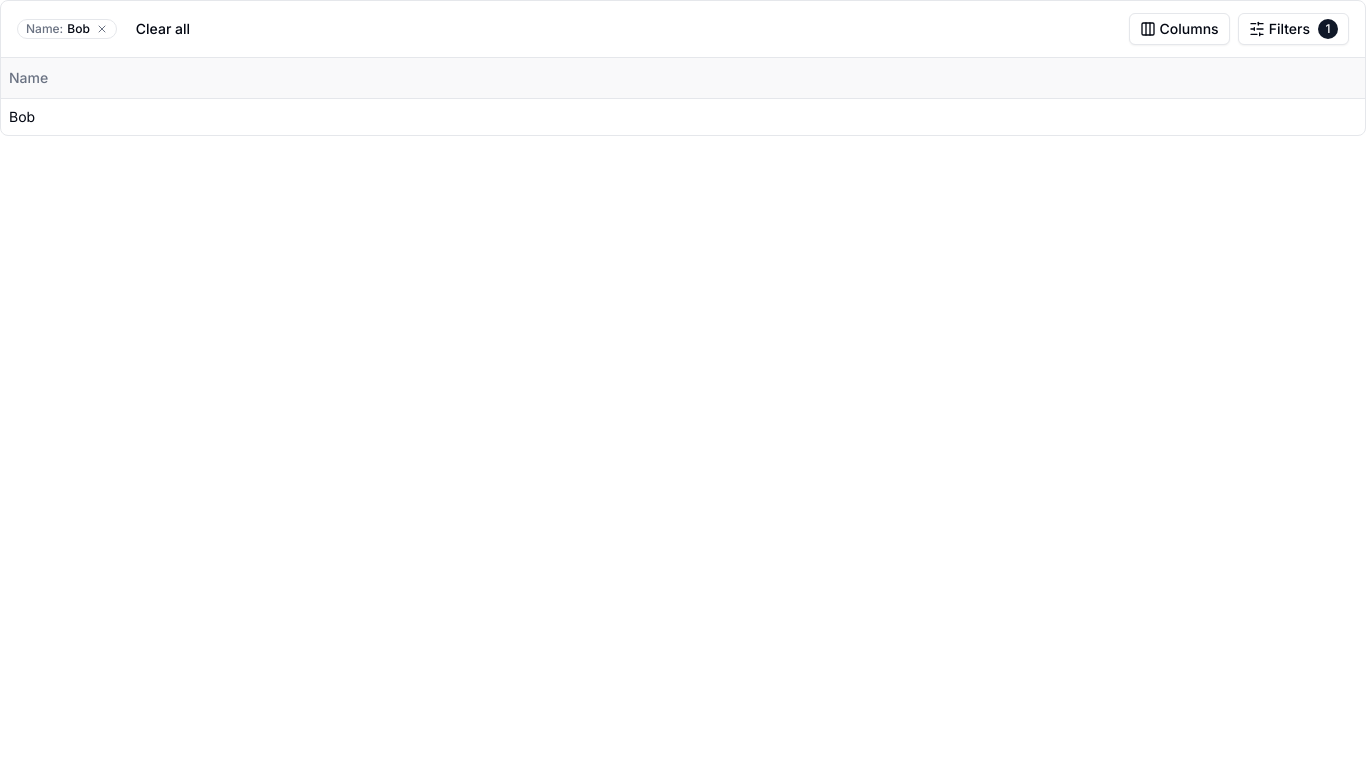
Scenario: DataTableFilterDrawer › reset clears the committed filters and the draft
Click the button with test id "datatable-filters-trigger": (1293, 29) [1238, 13, 1349, 45]
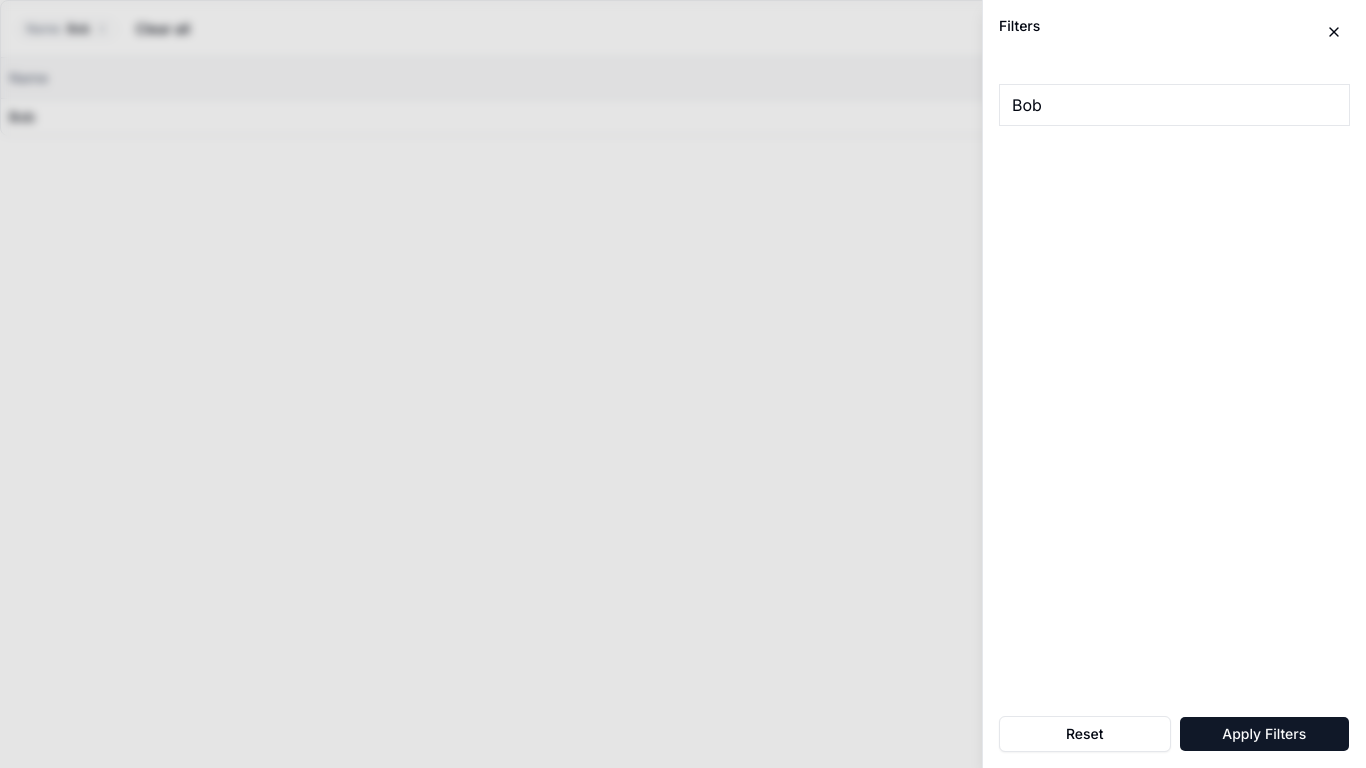
Click the button with test id "filter-drawer-reset": (1085, 734) [999, 716, 1170, 752]
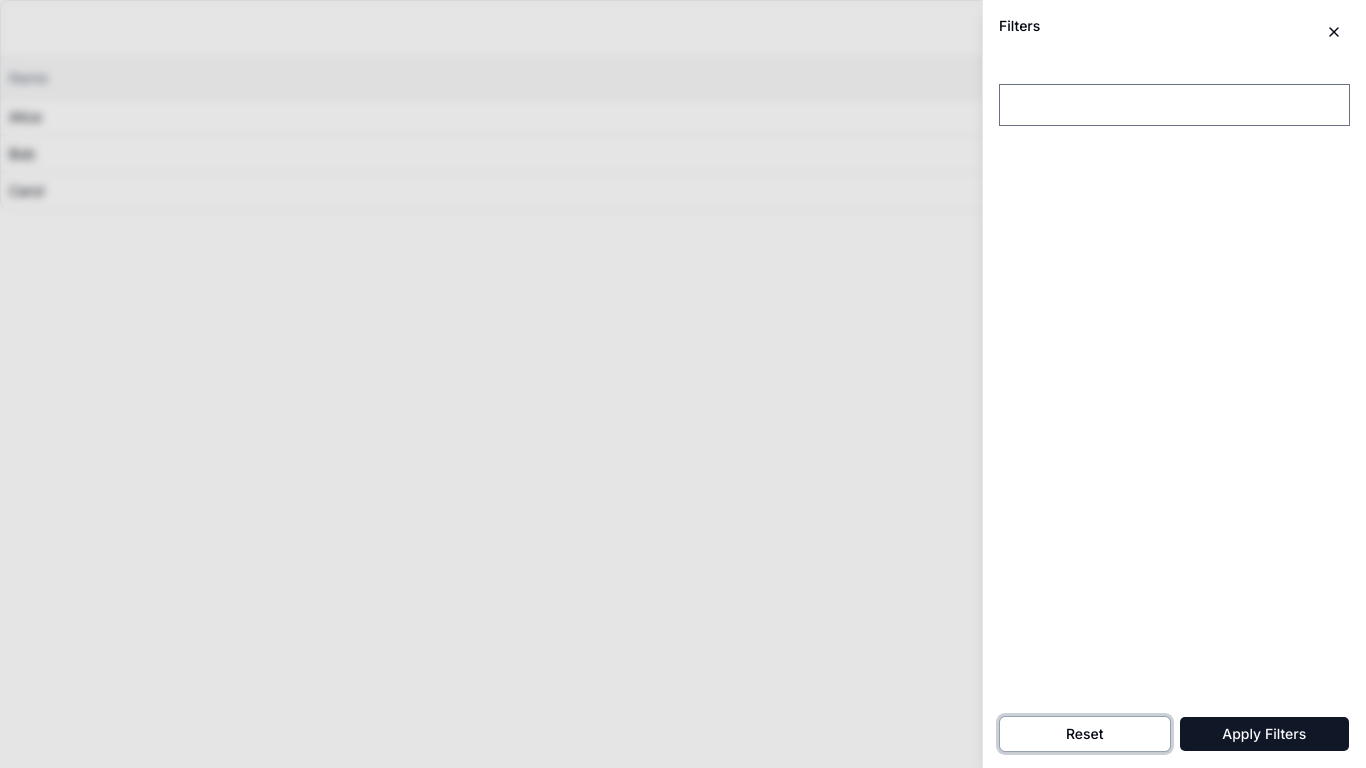
Check: the element with test id "filter-chip-name" is gone
Check: the field with test id "draft-name" is empty, box [999, 84, 1350, 126]
